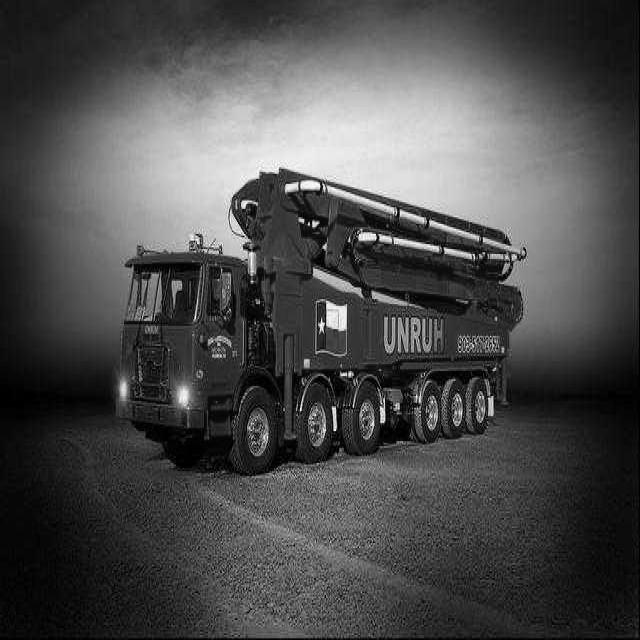Truck: (116, 169, 525, 473)
